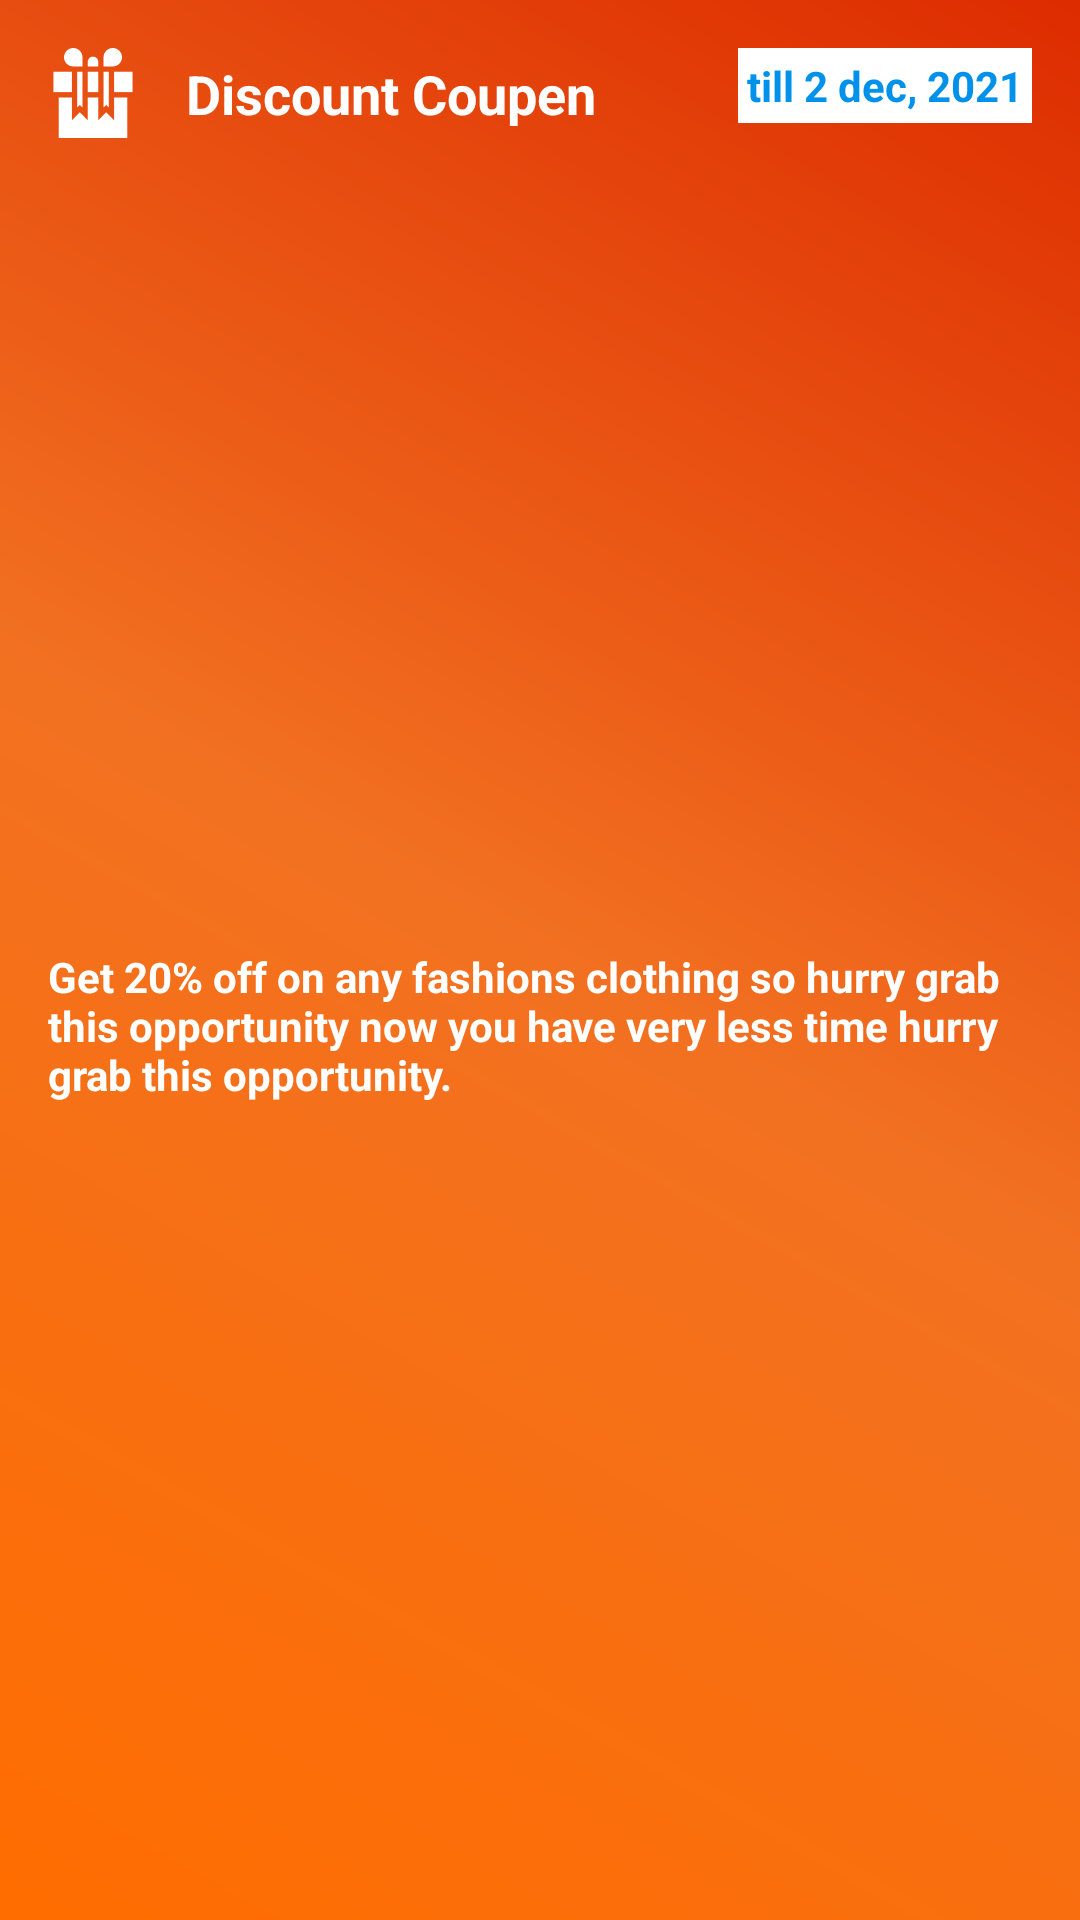

Screen size 1080px×1920px. Icon name, then its box in pixels as (x1, y1, x2, y2):
rewards: (53, 48, 133, 138)
